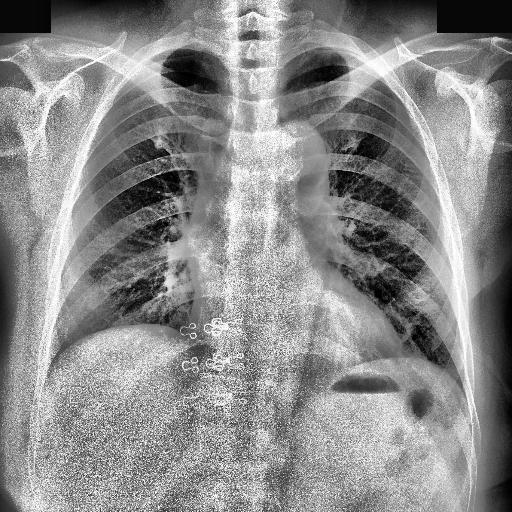0- Aortic enlargement: (263, 122, 332, 214), (256, 122, 329, 188), (276, 120, 328, 180)
11- Pleural thickening: (282, 36, 350, 78)
3- Cardiomegaly: (184, 300, 406, 384), (190, 296, 404, 362)
